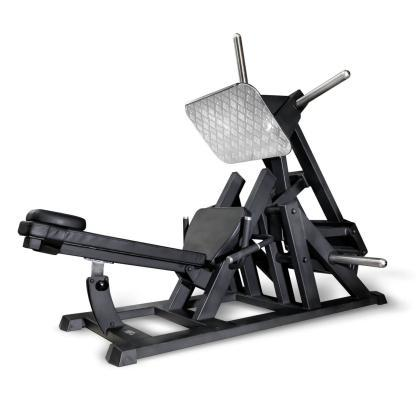leg press: (10, 29, 399, 375)
